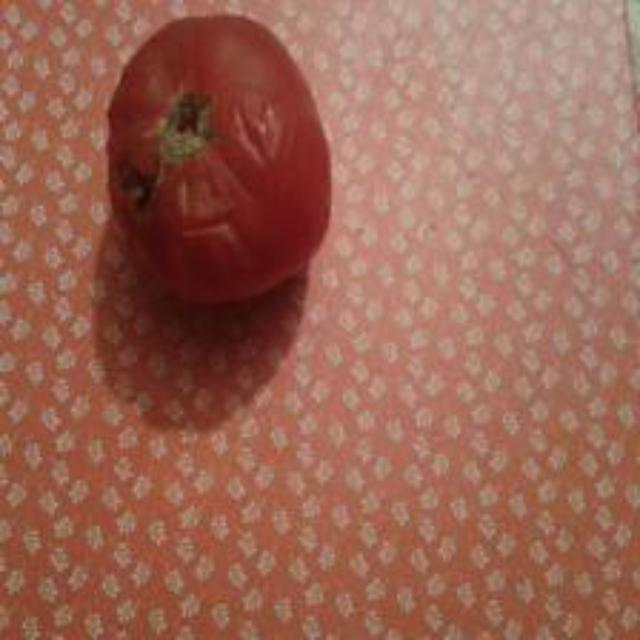defect: (104, 12, 340, 319)
